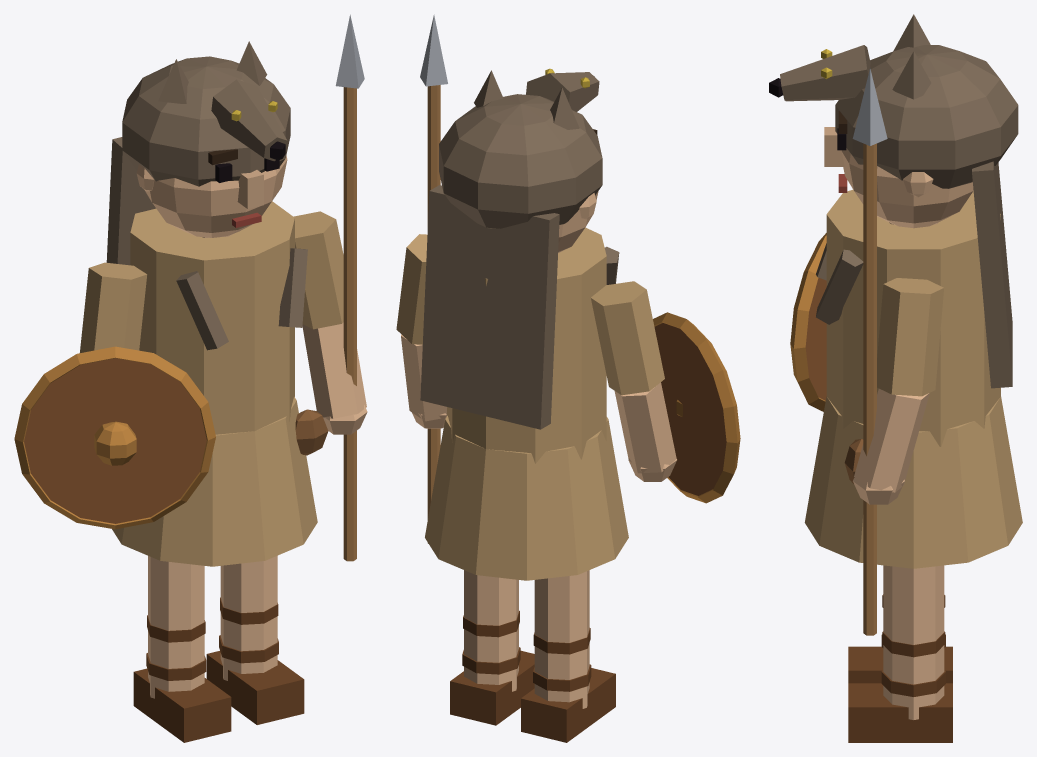
The model's file is welita.glb.
The picture shows the model from 3 angles, left to right: view 1: azimuth 30°, elevation 25°; view 2: azimuth 150°, elevation 25°; view 3: azimuth 270°, elevation 25°; orthographic projection. The views are drawn at different scales.
Parts seen in each view (by area): view 1: cialo, reka_l, glowa, reka_p, noga_l, noga_p; view 2: glowa, cialo, reka_l, noga_l, noga_p, reka_p; view 3: cialo, glowa, reka_p, noga_p, reka_l, noga_l.
Part boxes in pixels (box(x1,y1,x2,y2)): cialo: box(112, 201, 328, 566); reka_l: box(14, 262, 215, 529); glowa: box(106, 41, 307, 350); reka_p: box(294, 14, 367, 561); noga_l: box(133, 556, 231, 742); noga_p: box(206, 555, 304, 724); glowa: box(420, 68, 619, 429); cialo: box(425, 227, 628, 580); reka_l: box(591, 281, 740, 503); noga_l: box(521, 570, 615, 742); noga_p: box(450, 570, 534, 725); reka_p: box(396, 14, 447, 543); cialo: box(804, 189, 1022, 568); glowa: box(769, 14, 1018, 388); reka_p: box(852, 68, 943, 635); noga_p: box(848, 565, 952, 742); reka_l: box(790, 233, 826, 411); noga_l: box(848, 594, 952, 683).
Bounding box in the file's own units: 0.9366 × 1.78 × 0.5817.
